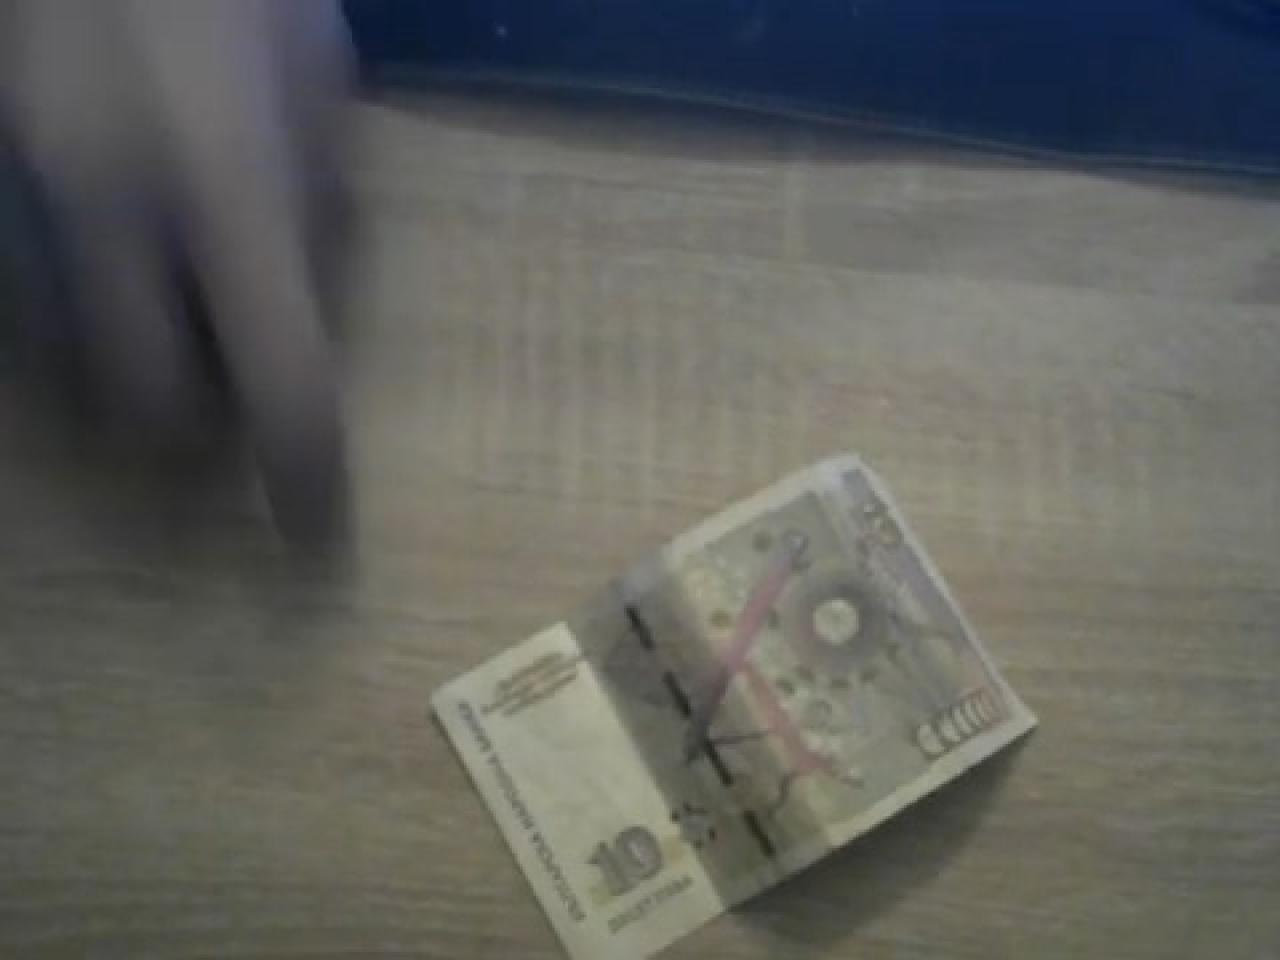10leva: (429, 456, 1037, 960)
